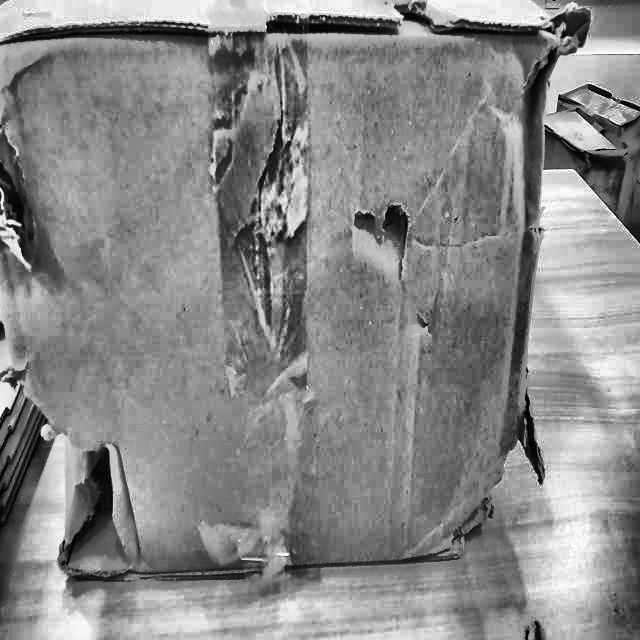box: (1, 0, 585, 589)
hole: (14, 352, 140, 588), (445, 386, 542, 564), (350, 186, 415, 282), (0, 122, 36, 282)
